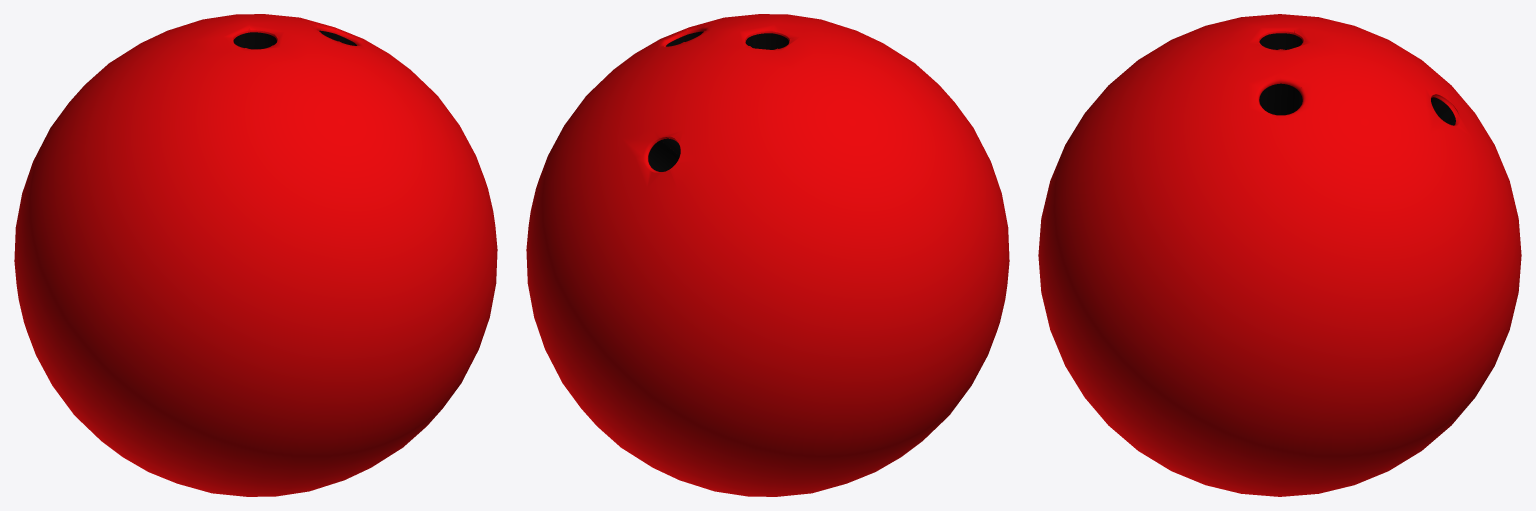
File: Bowling ball.fbx
3 views of the same model, side by side, from view 1: azimuth 30°, elevation 25°; view 2: azimuth 150°, elevation 25°; view 3: azimuth 270°, elevation 25° (orthographic).
Visible parts, largest first — view 1: Icosphere; view 2: Icosphere; view 3: Icosphere.
Boxes of the visible parts, x1,y1,x2,y2 form: Icosphere: [14, 14, 497, 496]; Icosphere: [526, 14, 1009, 496]; Icosphere: [1038, 14, 1521, 496].
Size of the model in its own units: 192 by 191 by 192.
